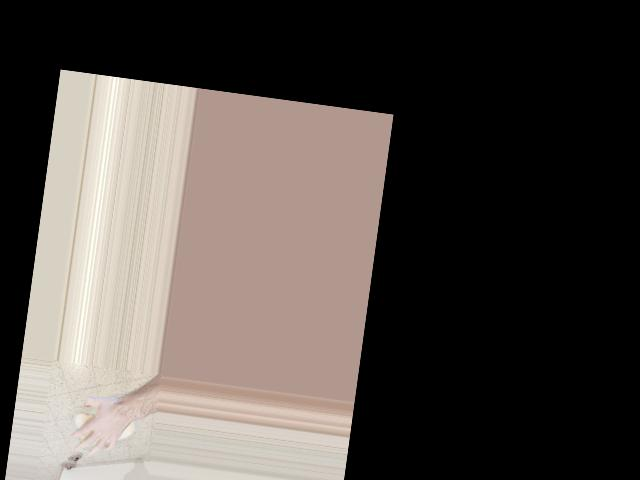cheese: (67, 387, 140, 460)
